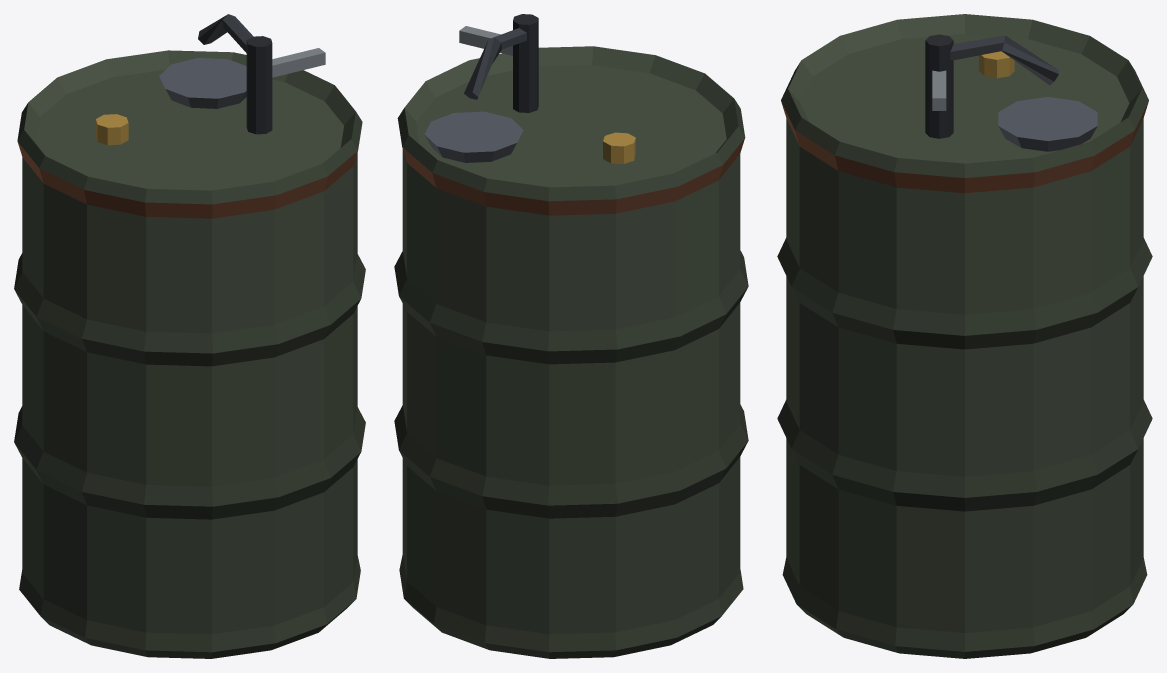
File: prop_drum.glb
The picture shows the model from 3 angles, left to right: view 1: azimuth 30°, elevation 25°; view 2: azimuth 150°, elevation 25°; view 3: azimuth 270°, elevation 25°; orthographic projection. The views are drawn at different scales.
Parts seen in each view (by area): view 1: prop_drum; view 2: prop_drum; view 3: prop_drum.
Boxes of the visible parts, box(x1,y1,x2,y2) form: prop_drum: box(14, 14, 365, 658); prop_drum: box(394, 14, 748, 658); prop_drum: box(777, 14, 1152, 658).
Size of the model in its own units: 0.588 by 1 by 0.588.
